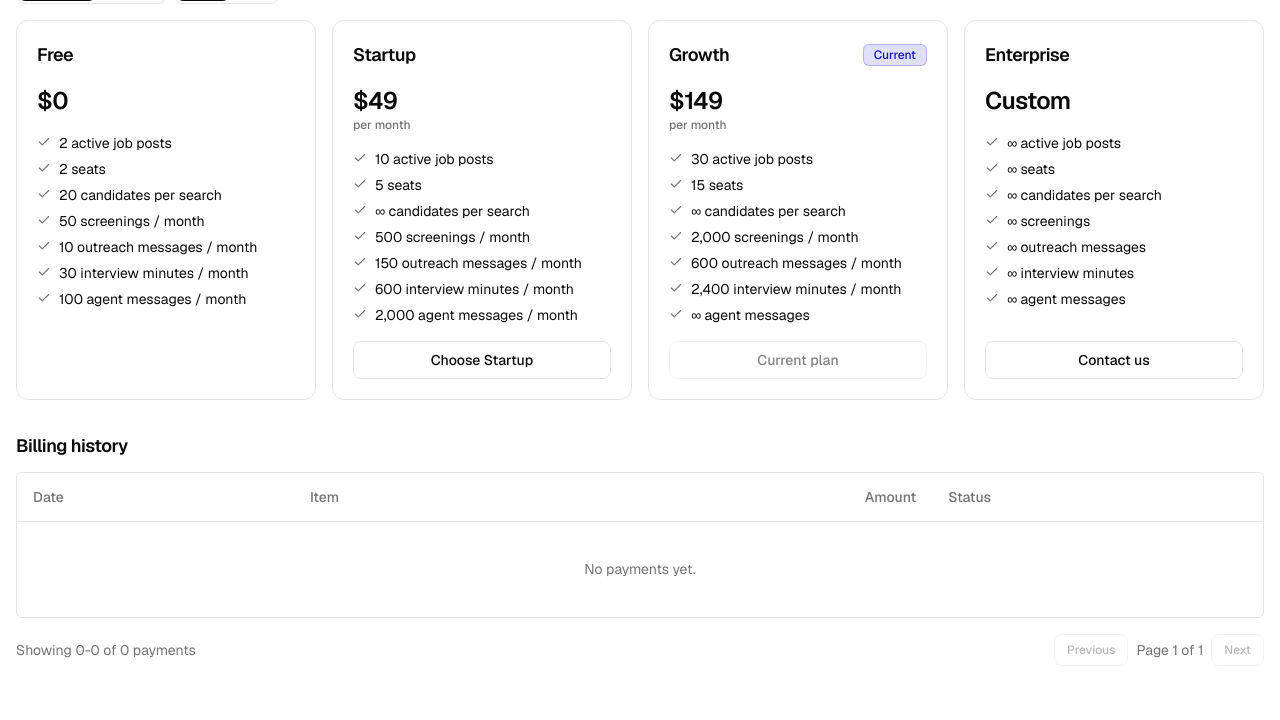
Test: BillingOverview: confirming plan changes › explains a downgrade happens at renewal
This screenshot has width=1280, height=720.
(page scrolled)
Click the button "Choose Startup".
click(482, 360)  # box 353,341 -> 611,379
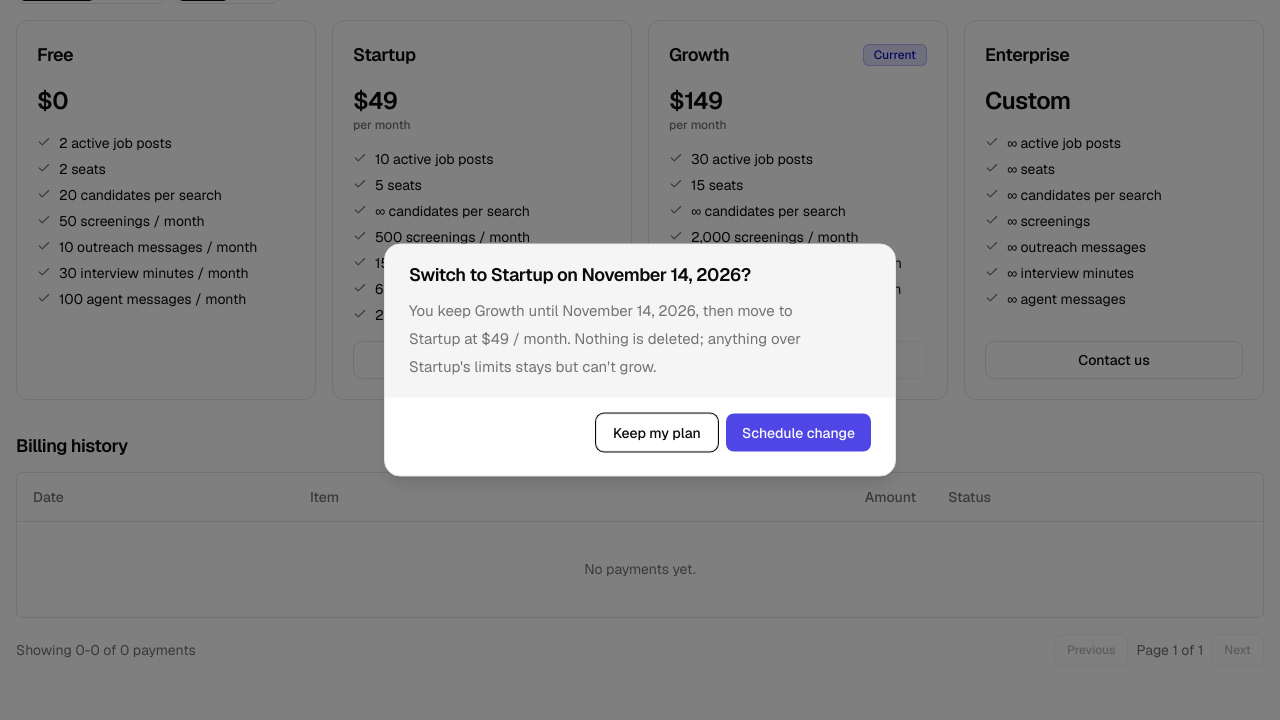
Now the heading "Switch to Startup on November 14, 2026?" is shown, box 409,262 -> 751,286
Now the text "You keep Growth until November 14, 2026" is shown, box 409,300 -> 801,376
